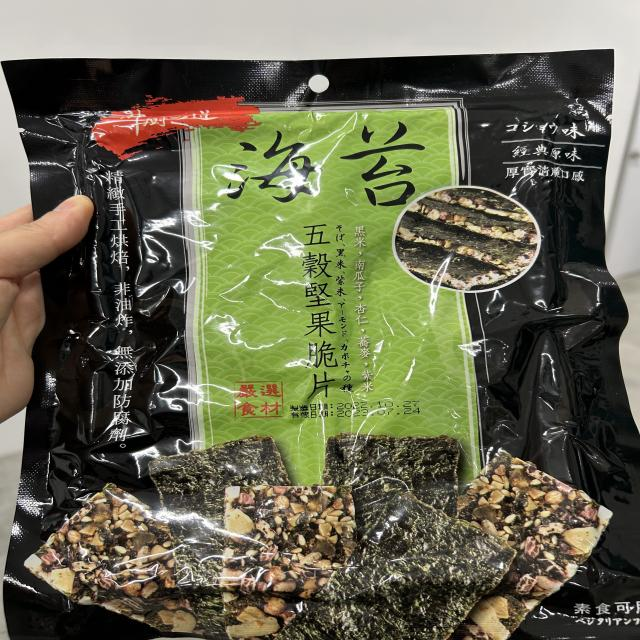object_name: (63, 62, 620, 637)
